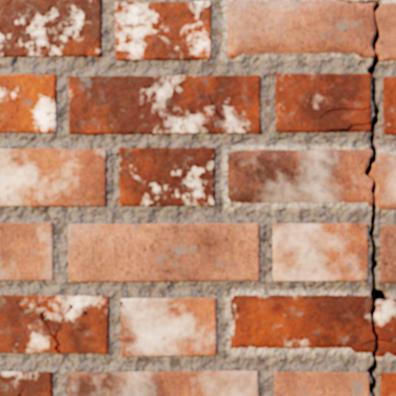brick: (69, 75, 260, 134), (68, 223, 259, 281), (0, 295, 108, 353), (0, 148, 106, 205), (0, 0, 101, 56), (115, 1, 210, 59), (119, 147, 214, 205), (276, 73, 370, 131), (121, 298, 216, 355), (273, 223, 367, 280), (67, 371, 258, 395), (0, 74, 56, 132), (0, 223, 52, 279), (274, 372, 368, 395), (0, 372, 52, 395), (380, 225, 395, 282), (383, 77, 395, 133), (381, 373, 395, 395), (351, 125, 369, 130)
broken_brick: (226, 0, 374, 58), (227, 149, 371, 206), (230, 295, 373, 352), (372, 151, 395, 208), (376, 298, 395, 356), (377, 2, 395, 61)
crack: (317, 0, 393, 395), (38, 302, 73, 353), (336, 0, 356, 3), (120, 300, 125, 308)
